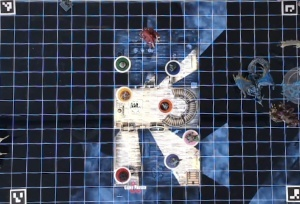blue: (164, 58, 180, 75)
green: (112, 54, 131, 72)
orange: (156, 97, 175, 115)
pink: (182, 128, 200, 146)
red: (114, 166, 131, 185)
violet: (162, 153, 181, 169)
yellow: (115, 84, 133, 101)
